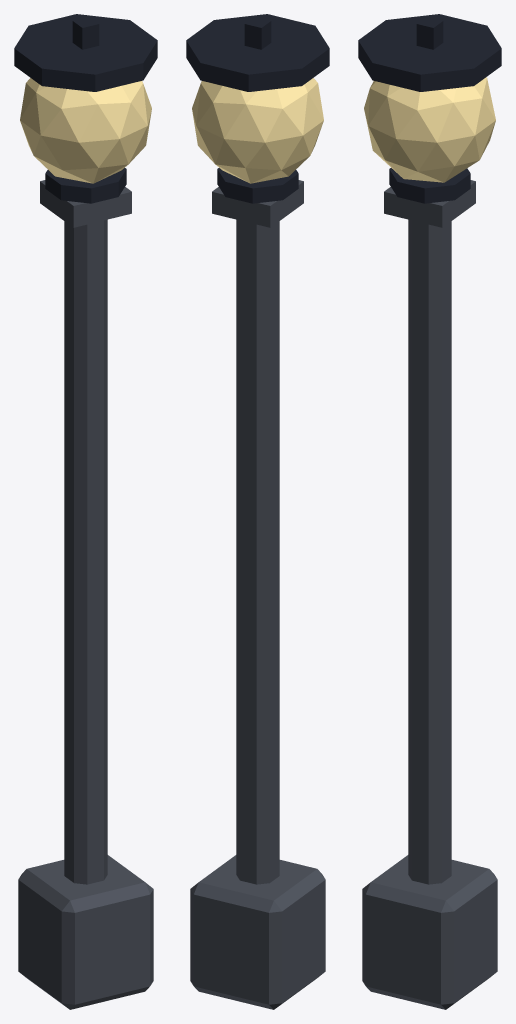
Rendered from street-lamp.glb.
3 views of the same model, side by side, from view 1: azimuth 30°, elevation 25°; view 2: azimuth 150°, elevation 25°; view 3: azimuth 330°, elevation 25° (orthographic).
Parts seen in each view (by area): view 1: street_lamp; view 2: street_lamp; view 3: street_lamp.
Part boxes in pixels (bbox=[...]): street_lamp: bbox=[14, 14, 157, 1009]; street_lamp: bbox=[186, 14, 329, 1009]; street_lamp: bbox=[358, 14, 501, 1009].
Size of the model in its own units: 0.5543 by 4.4 by 0.56.
